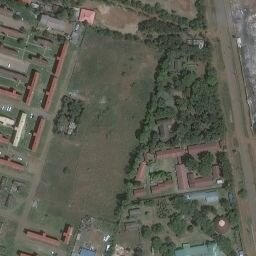tree: (182, 153, 198, 169), (195, 162, 211, 176), (197, 149, 212, 163), (151, 223, 164, 233), (172, 96, 184, 105), (141, 225, 149, 238), (238, 188, 247, 197), (57, 35, 65, 43), (17, 37, 24, 44), (62, 167, 69, 174), (187, 225, 193, 232)
